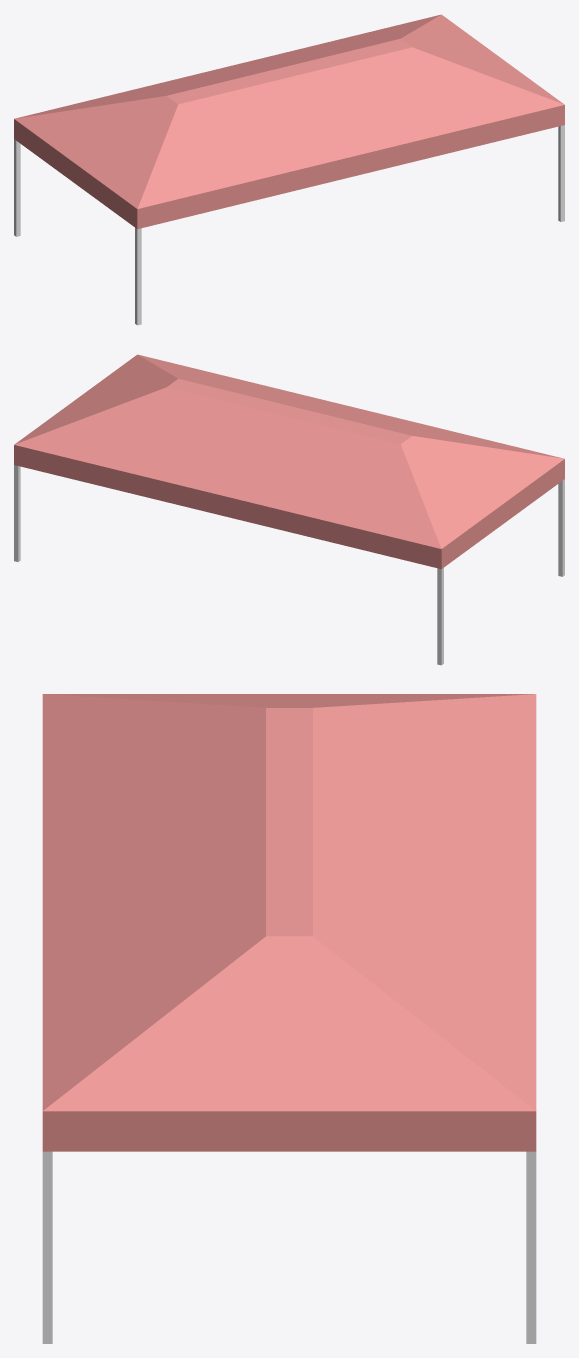
Rendered from tentLong.glb.
The picture shows the model from 3 angles, top to bottom: view 1: azimuth 30°, elevation 25°; view 2: azimuth 150°, elevation 25°; view 3: azimuth 270°, elevation 25°; orthographic projection. The views are drawn at different scales.
Parts seen in each view (by area): view 1: tentLong(Clone); view 2: tentLong(Clone); view 3: tentLong(Clone).
Part boxes in pixels (<box>): tentLong(Clone): <box>14,14,564,325</box>; tentLong(Clone): <box>14,354,564,665</box>; tentLong(Clone): <box>42,694,536,1343</box>.
Bounding box in the file's own units: 2 × 0.7 × 1.
